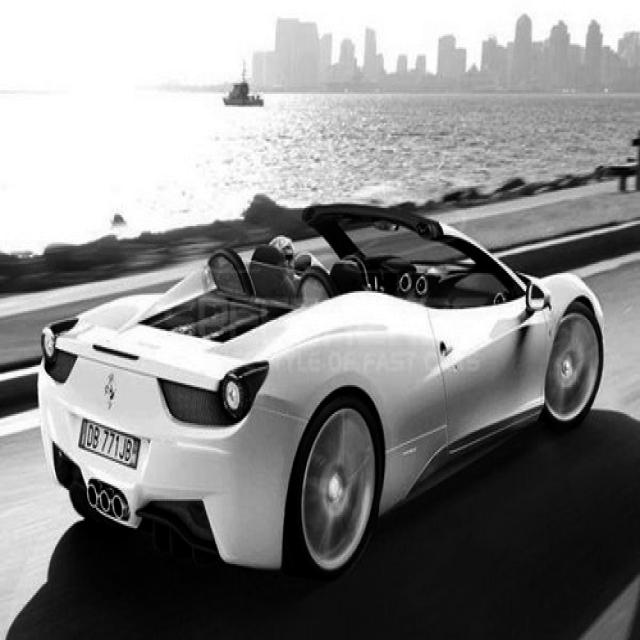car: (36, 197, 605, 580)
plat_license: (77, 416, 139, 468)
